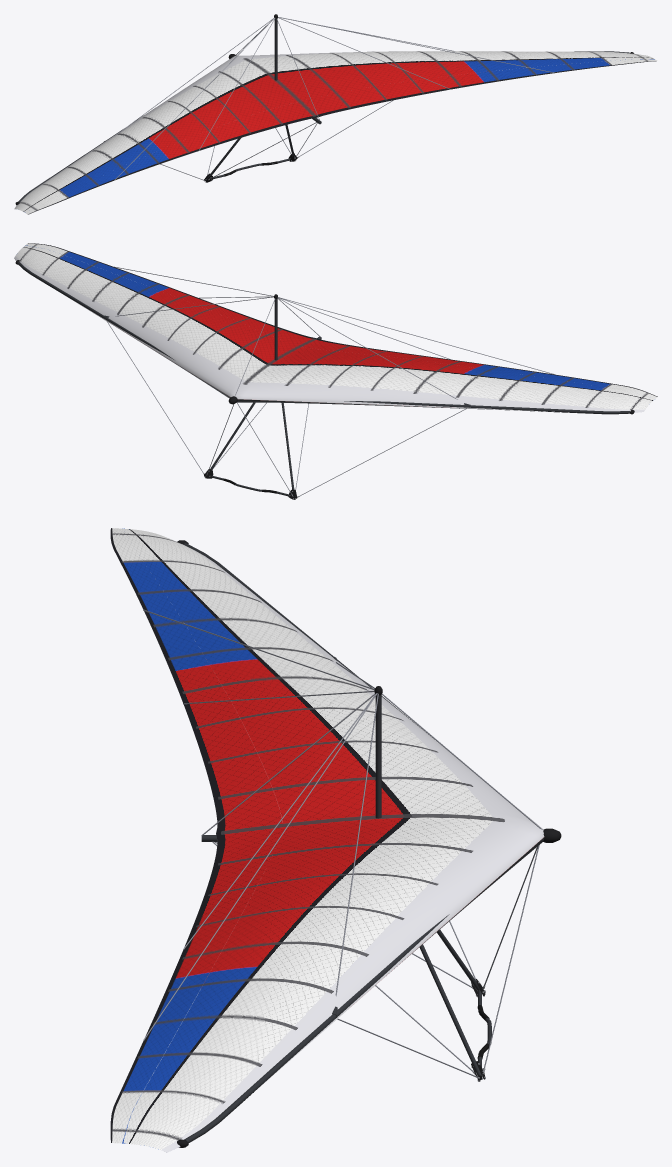
Rendered from glider_laminar.glb.
3 renders of one model, top to bottom at view 1: azimuth 30°, elevation 25°; view 2: azimuth 150°, elevation 25°; view 3: azimuth 270°, elevation 25°, orthographic. The views are drawn at different scales.
Parts seen in each view (by area): view 1: Sail, Frame, ControlFrame; view 2: Sail, Frame, ControlFrame; view 3: Sail, Frame, ControlFrame.
Part boxes in pixels (x1,y1,x2,y2): Sail: (14,51,657,214); Frame: (15,14,634,205); ControlFrame: (160,100,393,182); Sail: (14,243,657,412); Frame: (15,260,634,414); ControlFrame: (107,322,466,499); Sail: (110,528,544,1152); Frame: (143,540,561,1147); ControlFrame: (212,841,539,1081).
Bounding box in the file's own units: 10.3 × 2.76 × 3.19.
Materials: 8 (1 with a texture image).
